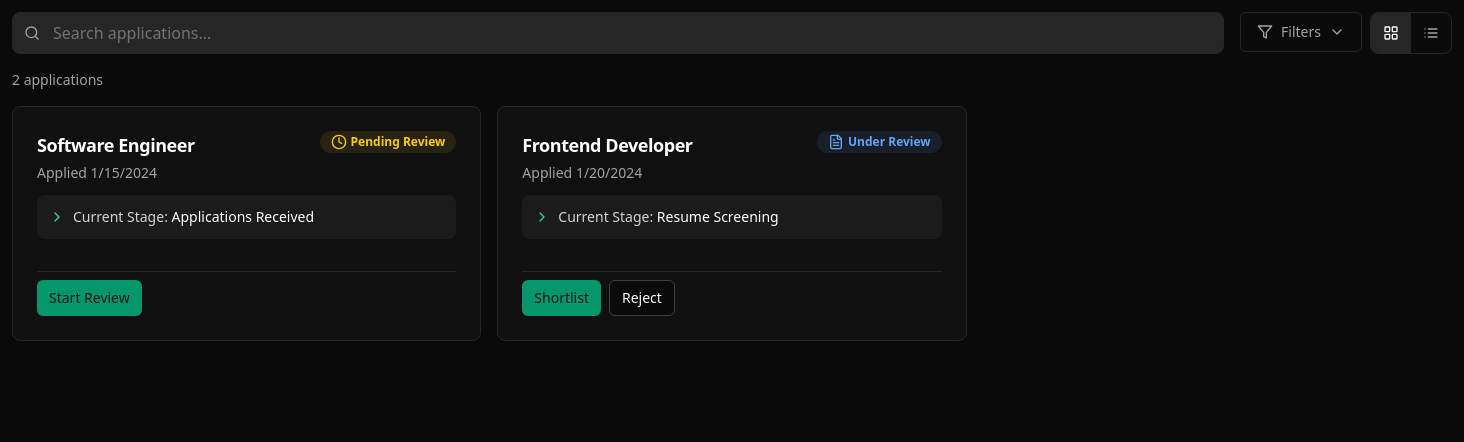
Scenario: ApplicationList › toggles filter panel visibility
Click the button "Filters" at [1301, 32], box [1240, 12, 1362, 52]
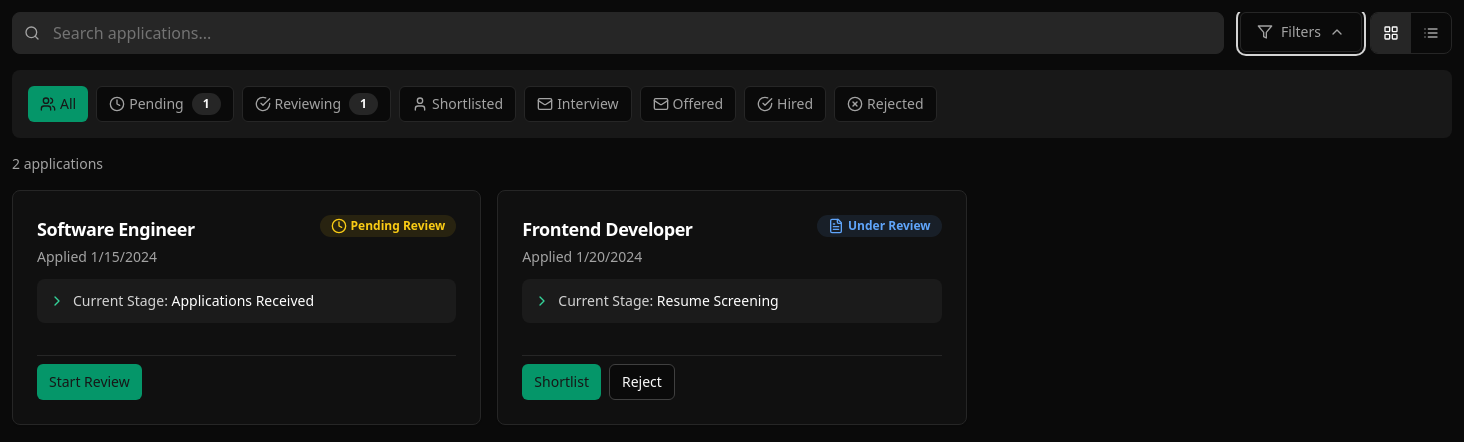
Result: the button "All" is shown at [28, 86, 88, 122]
